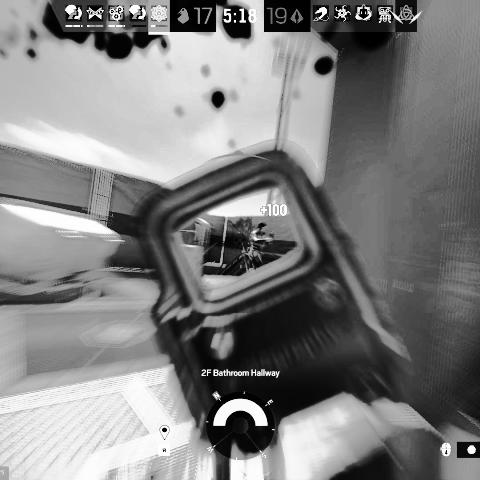Character: (243, 221, 276, 272)
Head: (256, 222, 266, 234)
